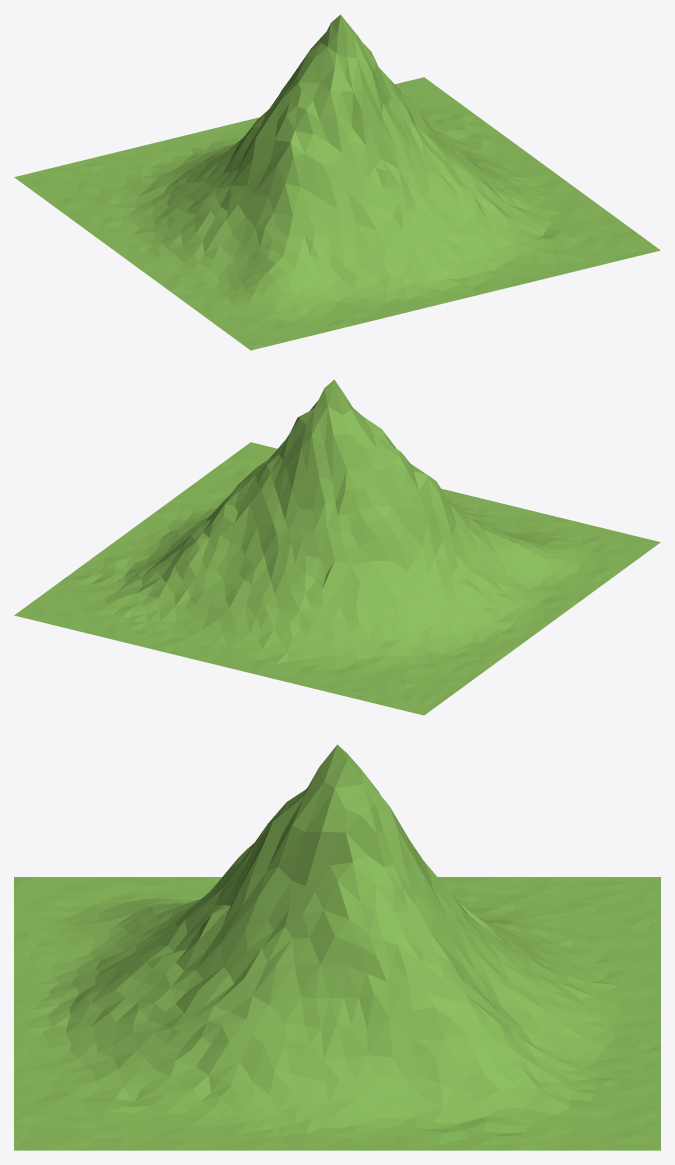
Rendered from MT_Terrain_L_a_42_LOD.fbx.
The picture shows the model from 3 angles, top to bottom: view 1: azimuth 30°, elevation 25°; view 2: azimuth 150°, elevation 25°; view 3: azimuth 270°, elevation 25°; orthographic projection. The views are drawn at different scales.
Parts seen in each view (by area): view 1: MT_Terrain_L_a_42_LOD0; view 2: MT_Terrain_L_a_42_LOD0; view 3: MT_Terrain_L_a_42_LOD0.
Part boxes in pixels (<box>): MT_Terrain_L_a_42_LOD0: <box>14,14,660,350</box>; MT_Terrain_L_a_42_LOD0: <box>14,379,660,715</box>; MT_Terrain_L_a_42_LOD0: <box>14,744,660,1150</box>.
Size of what is drawn, in the model's own units: 10000 by 4638 by 10000.
